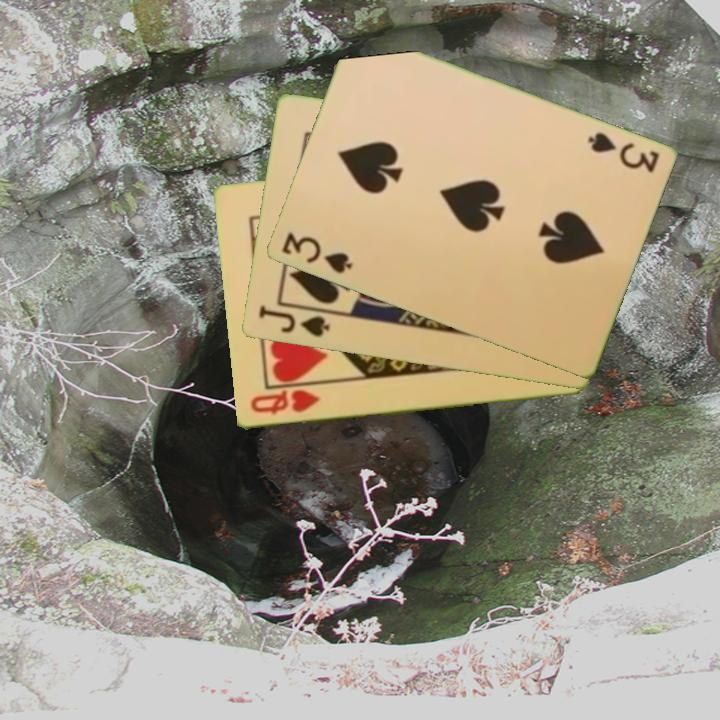3s: (583, 129, 662, 177), (278, 229, 355, 277)
Js: (254, 302, 332, 340)
Qh: (246, 387, 323, 418)
